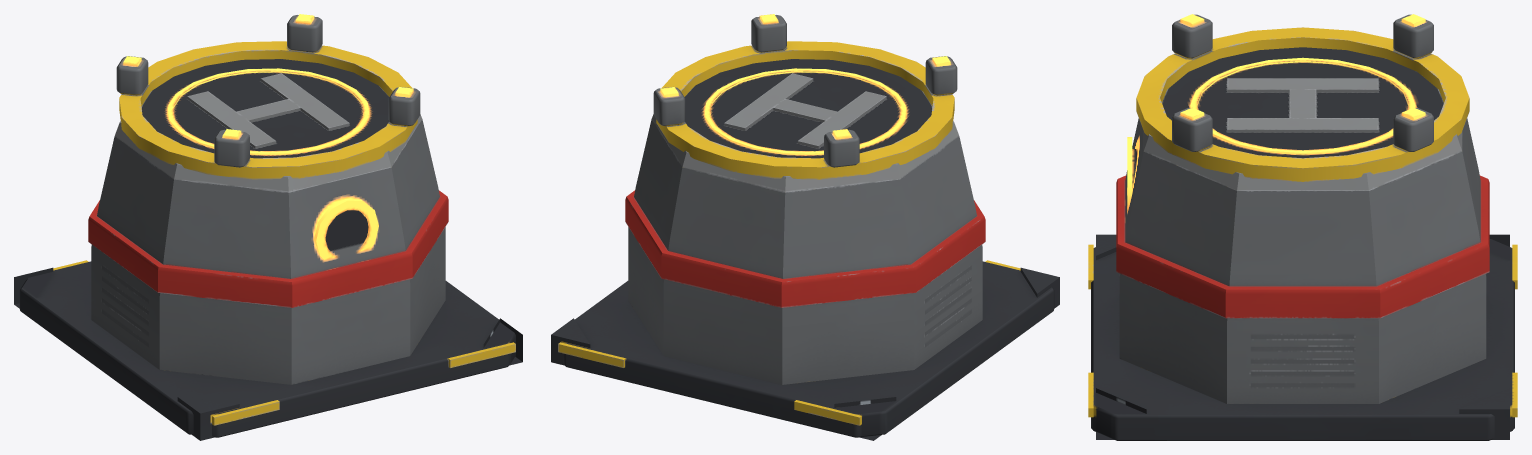
Rendered from R4X_FlyingDroneDeployer.glb.
3 renders of one model, left to right at view 1: azimuth 30°, elevation 25°; view 2: azimuth 150°, elevation 25°; view 3: azimuth 270°, elevation 25°, orthographic. The views are drawn at different scales.
Visible parts, largest first — view 1: R4X_FlyingDroneDeployer_Body, R4X_FlyingDroneDeployer_Iris; view 2: R4X_FlyingDroneDeployer_Body, R4X_FlyingDroneDeployer_Iris; view 3: R4X_FlyingDroneDeployer_Body, R4X_FlyingDroneDeployer_Iris.
Part boxes in pixels (bbox=[...]): R4X_FlyingDroneDeployer_Body: bbox=[14, 59, 522, 440]; R4X_FlyingDroneDeployer_Iris: bbox=[116, 14, 420, 179]; R4X_FlyingDroneDeployer_Body: bbox=[551, 59, 1059, 440]; R4X_FlyingDroneDeployer_Iris: bbox=[653, 14, 957, 179]; R4X_FlyingDroneDeployer_Body: bbox=[1088, 47, 1517, 440]; R4X_FlyingDroneDeployer_Iris: bbox=[1136, 14, 1469, 181].
Bounding box in the file's own units: 0.504 × 0.376 × 0.51.
Materials: 1 (1 with a texture image).
